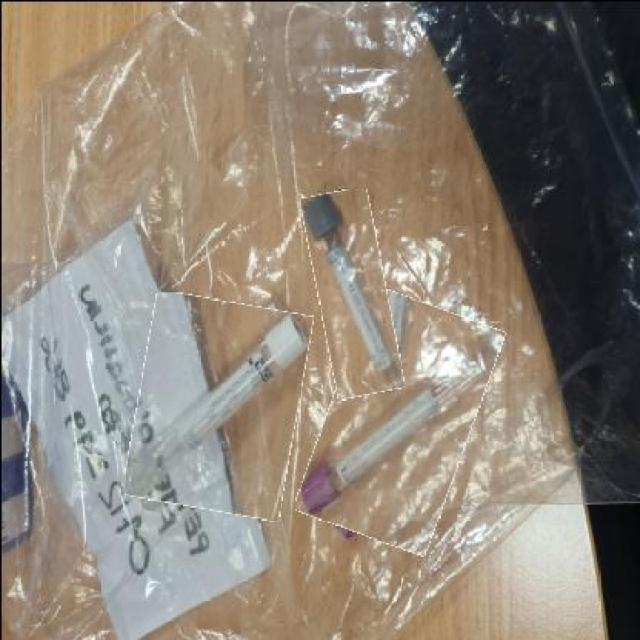Experimental-tube: (310, 291, 485, 547), (129, 295, 303, 513), (308, 187, 394, 396)
